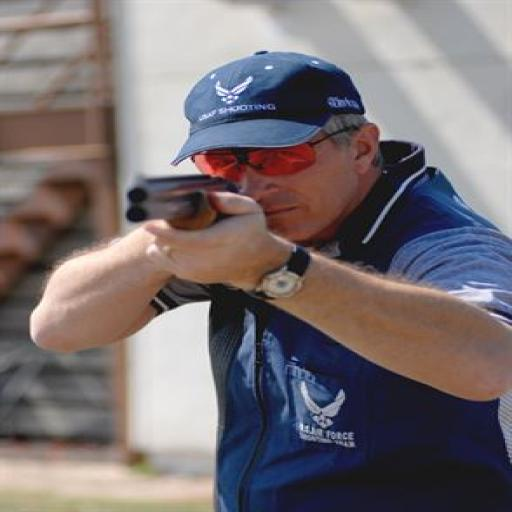shooting: (26, 48, 510, 510)
